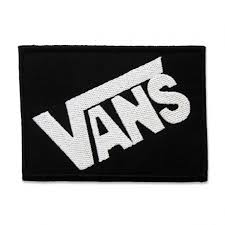vans: (31, 53, 190, 170)
